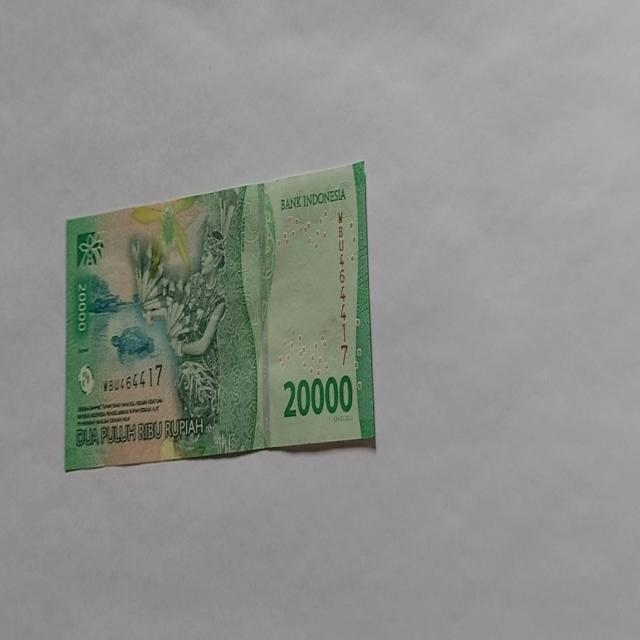dua puluh ribu rupiah: (64, 158, 376, 472)
